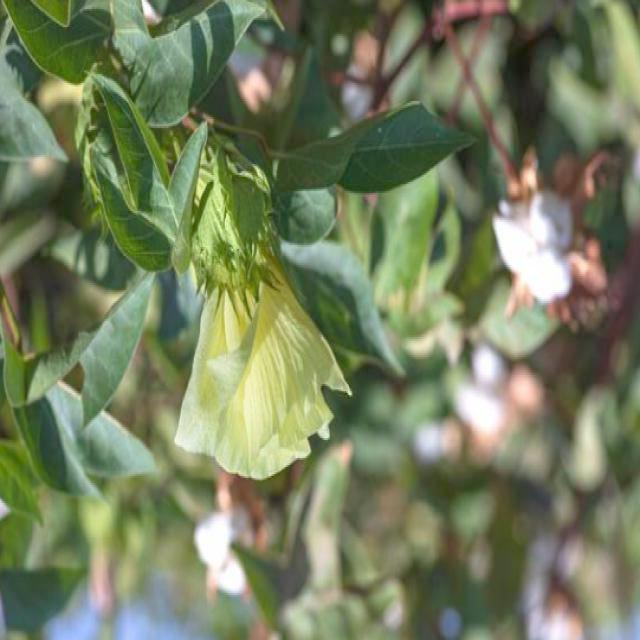Cotton Blossom: (156, 193, 354, 482)
Matured Cotton Boll: (488, 166, 599, 318)
